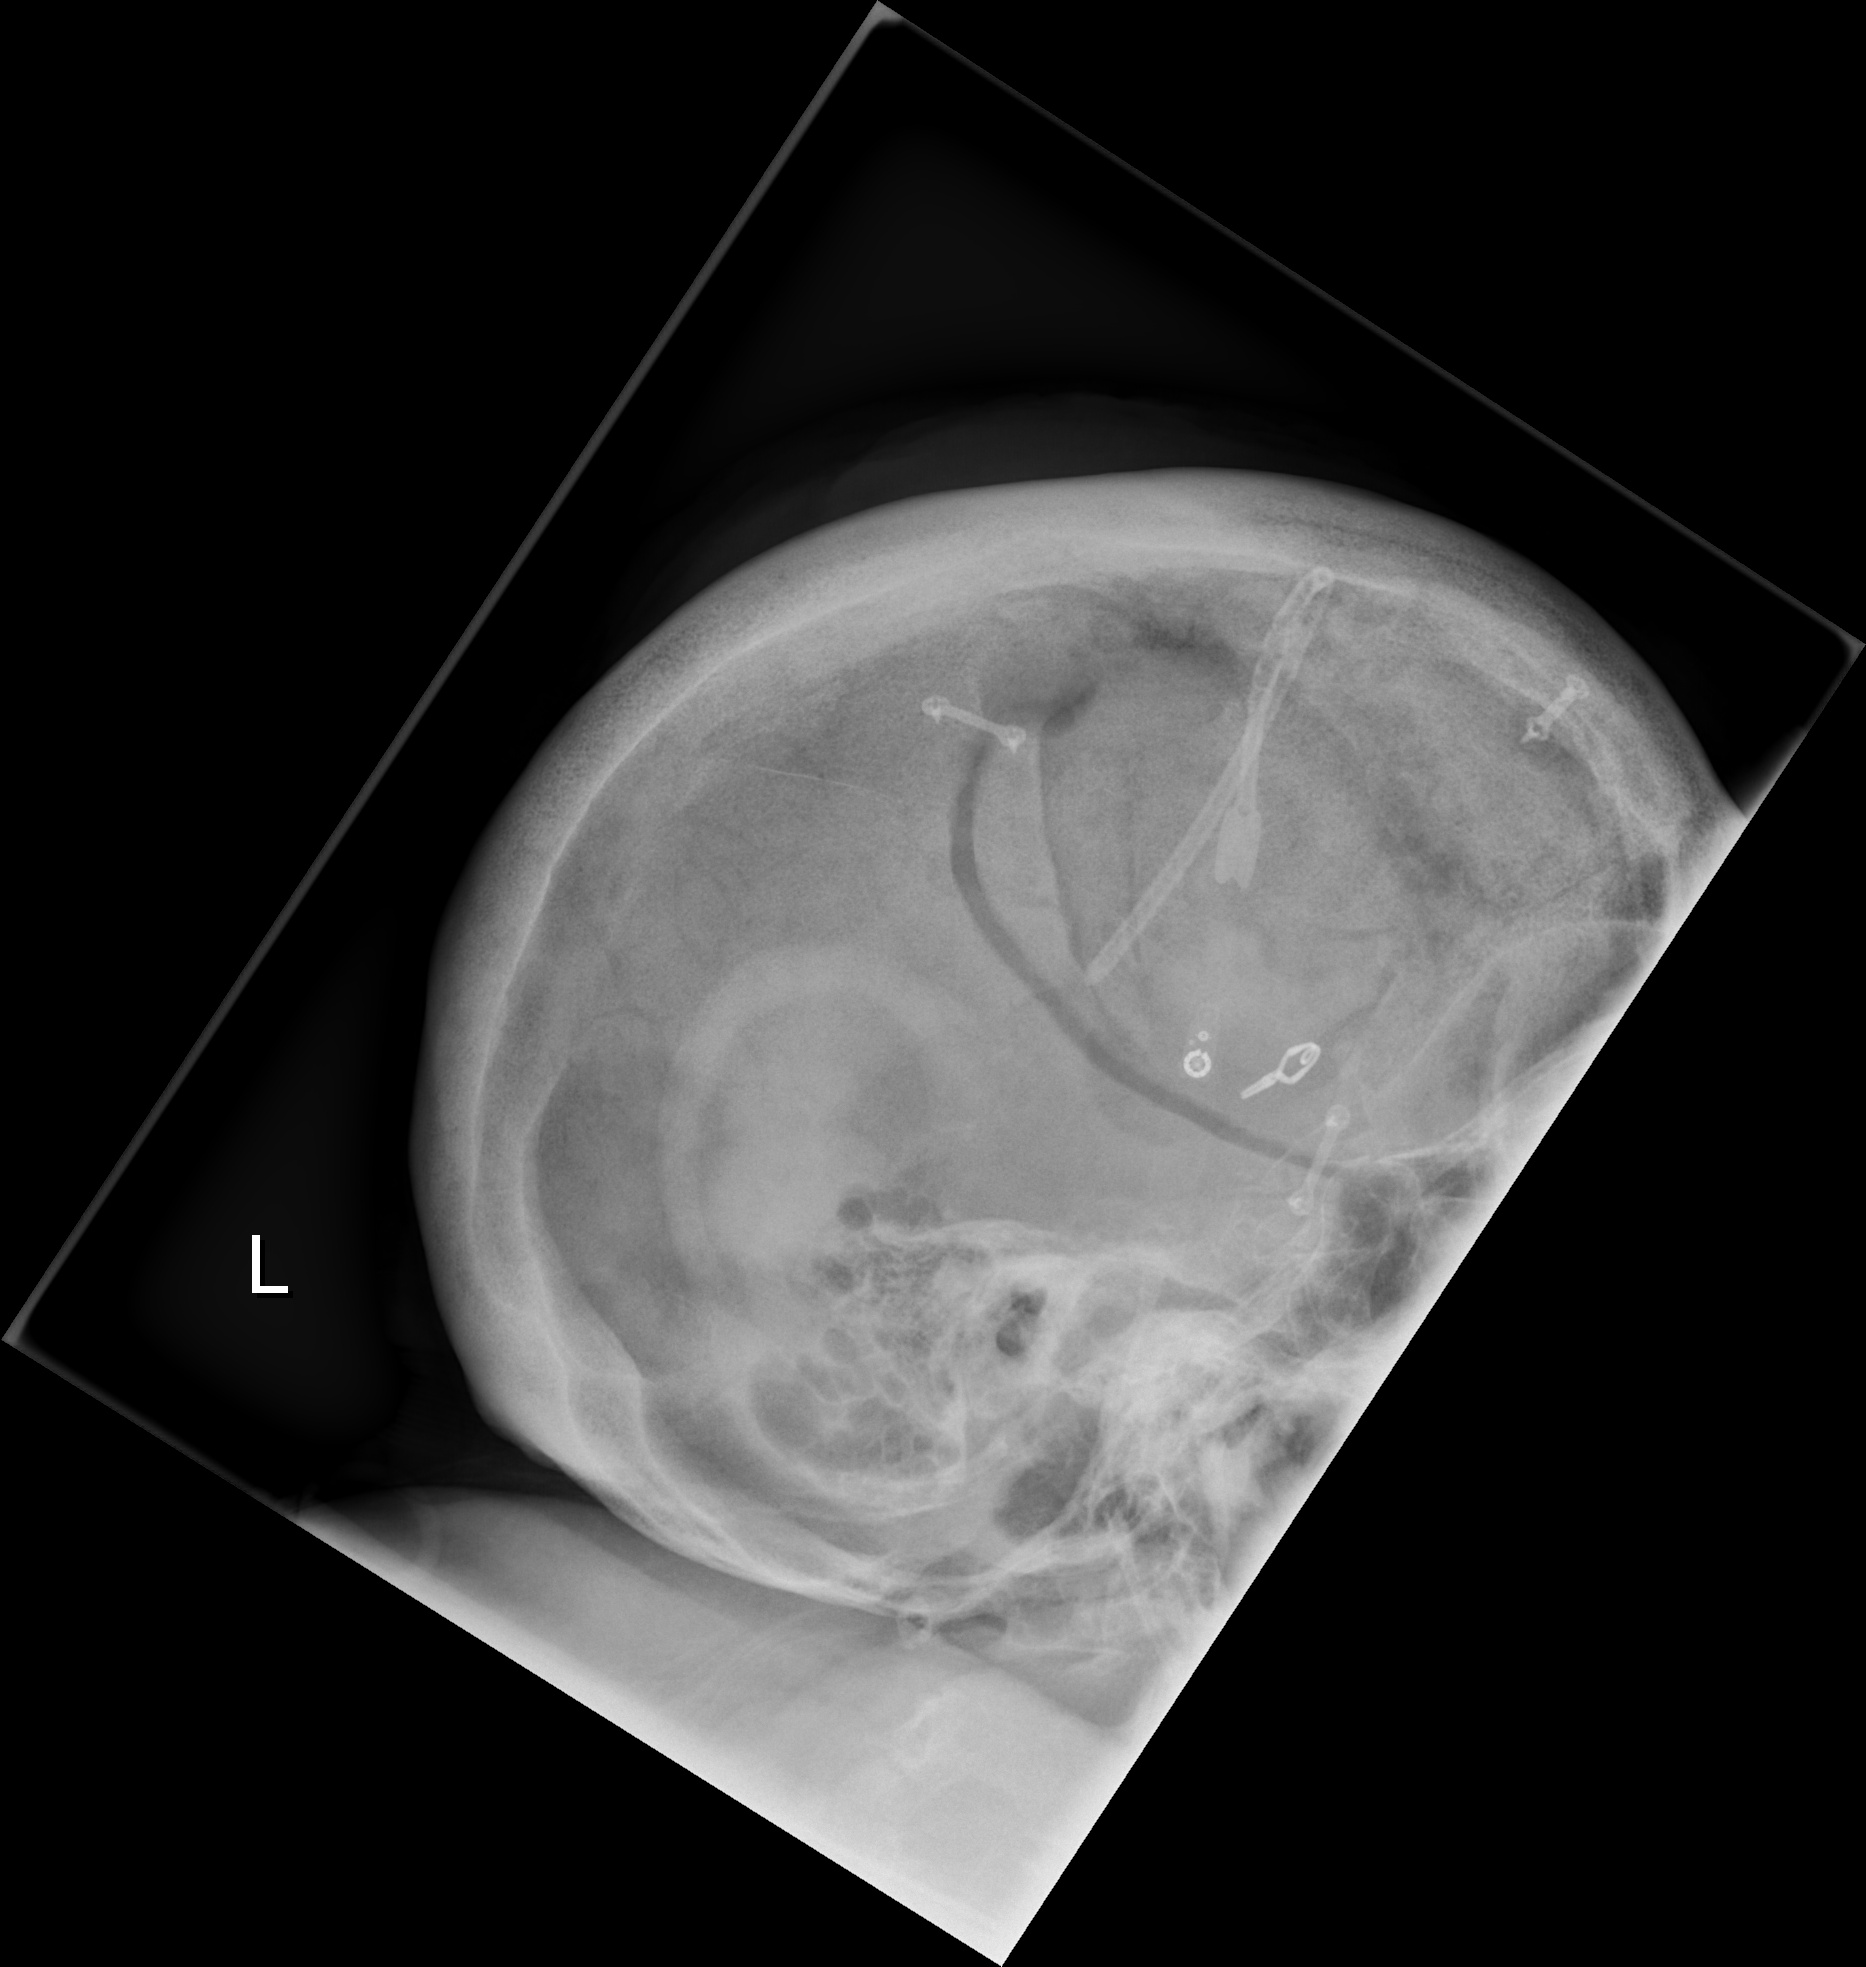Codman Hakim: (1168, 1005, 1228, 1115)
